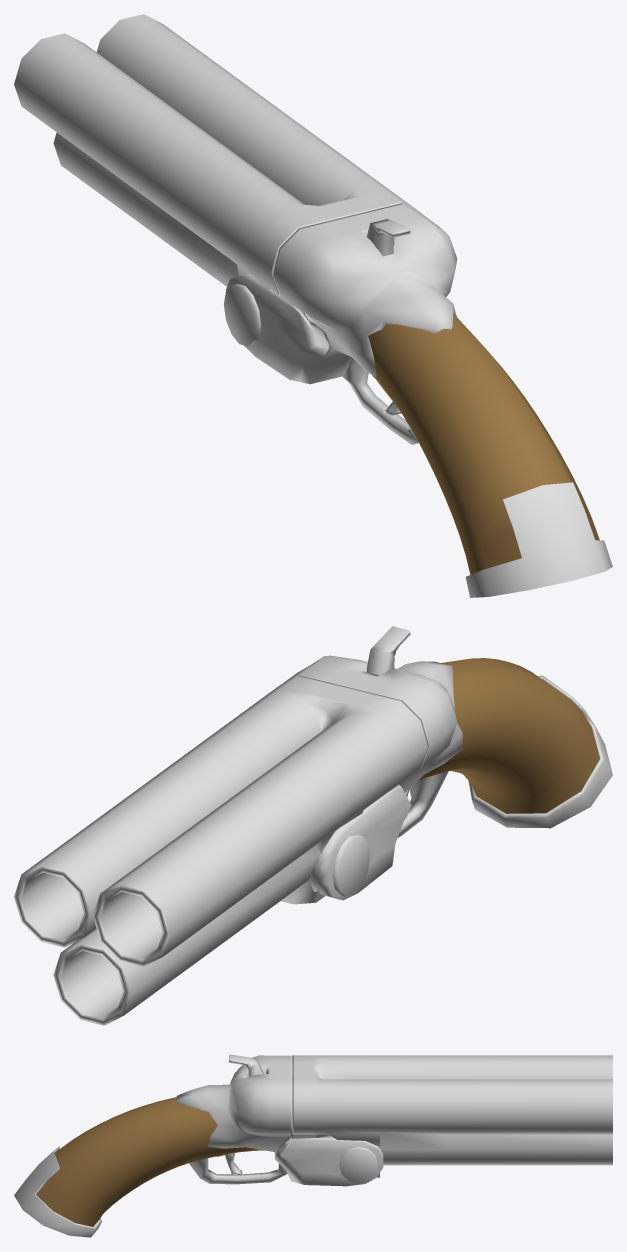
The model's file is trururka.fbx.
3 views of the same model, one above another, from view 1: azimuth 30°, elevation 25°; view 2: azimuth 150°, elevation 25°; view 3: azimuth 270°, elevation 25° (orthographic). The views are drawn at different scales.
Visible parts, largest first — view 1: polySurface35; view 2: polySurface35; view 3: polySurface35.
Boxes of the visible parts, x1,y1,x2,y2 form: polySurface35: [14, 14, 612, 597]; polySurface35: [14, 626, 612, 1025]; polySurface35: [14, 1054, 612, 1237].
Bounding box in the file's own units: 43.17 × 72.97 × 230.
